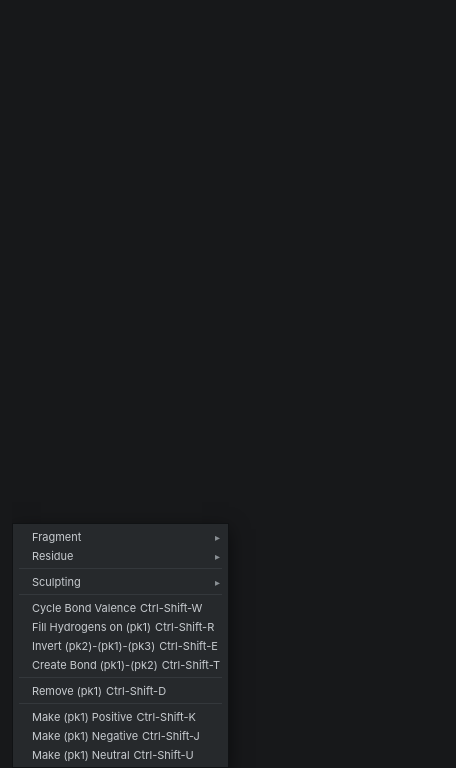
submenus › open on hover and render their own children
(page scrolled)
Step 1. Hover over the menu item with class "menu__row" showing "Fragment ▸" → [57, 536], box 13,527 -> 228,546
(page scrolled)
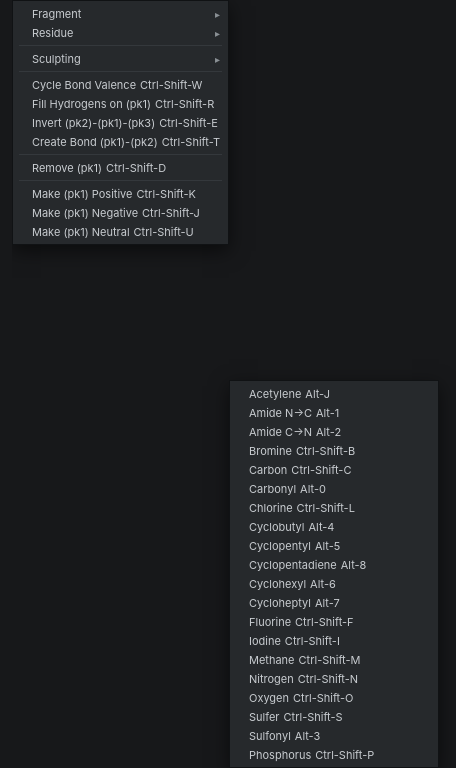
Check: the menu with class "menu--sub" is shown, box 229,380 -> 439,767
